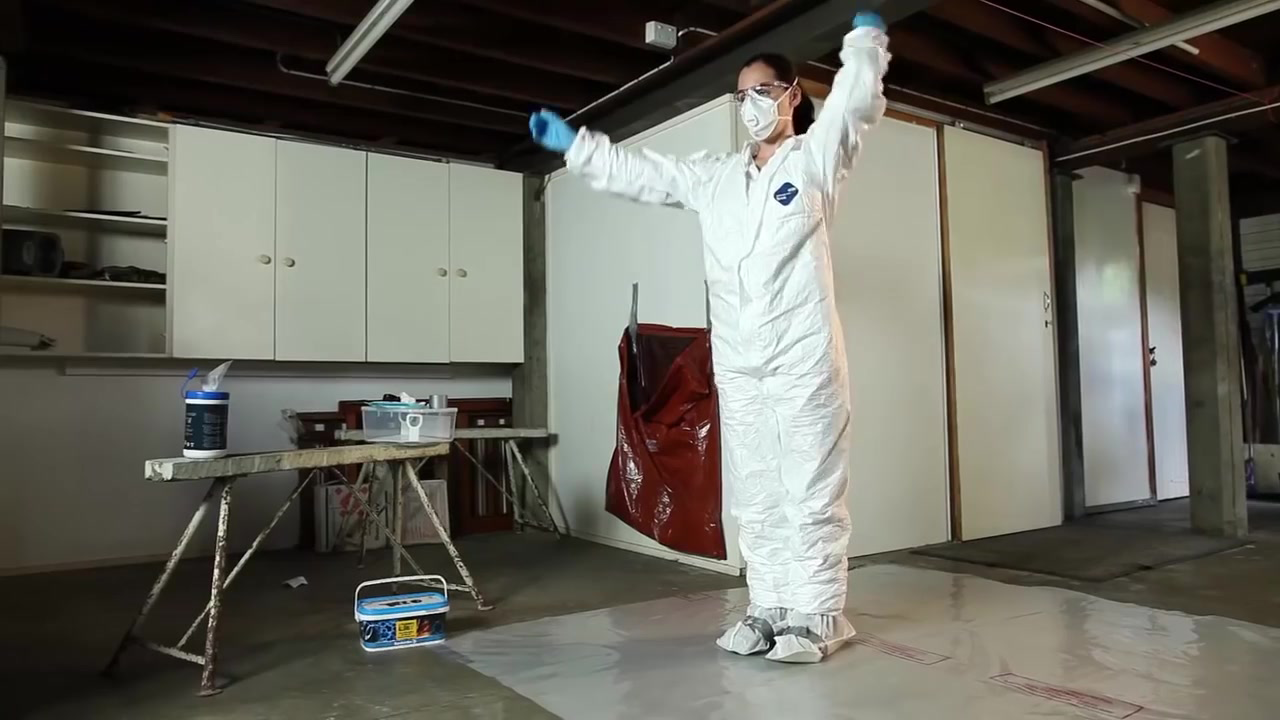Coverall: (589, 120, 923, 679)
Gloves: (524, 108, 572, 156)
Goggles: (715, 70, 775, 101)
with_mask: (735, 78, 787, 146)
